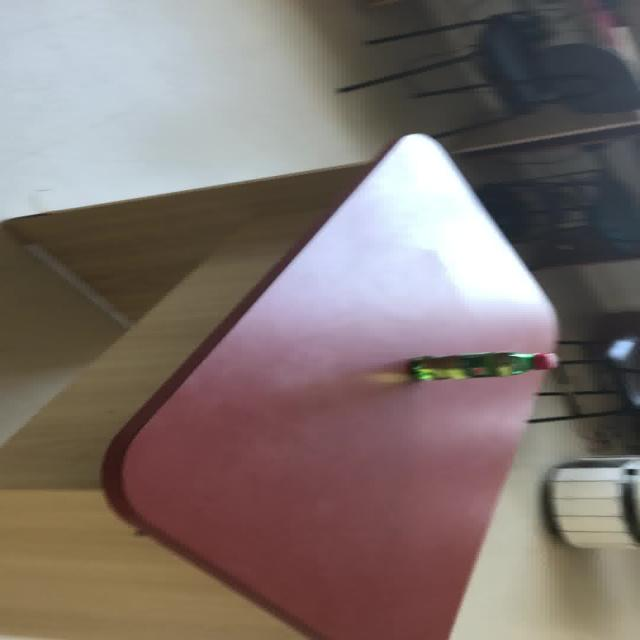guarana: (99, 131, 562, 638), (406, 350, 558, 381)
